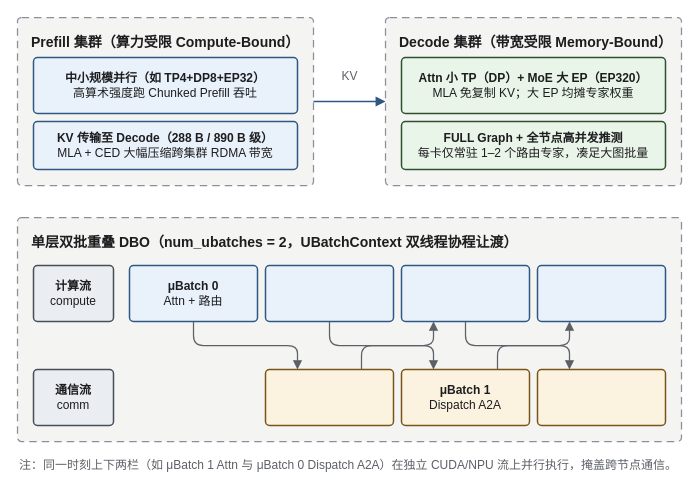
Some shapes in this 700 by 499 pixel diagram are drawn without their labels. The centre of each missing label's shape, as x and y in pixels:
μBatch 0 Combine A2A: point 601,397
μBatch 0 Dispatch A2A: point 329,397
μBatch 0 MoE GEMM: point 465,293
μBatch 1 Attn + 路由: point 329,293
μBatch 1 MoE GEMM: point 601,293
